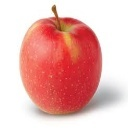apple: (19, 5, 103, 114)
